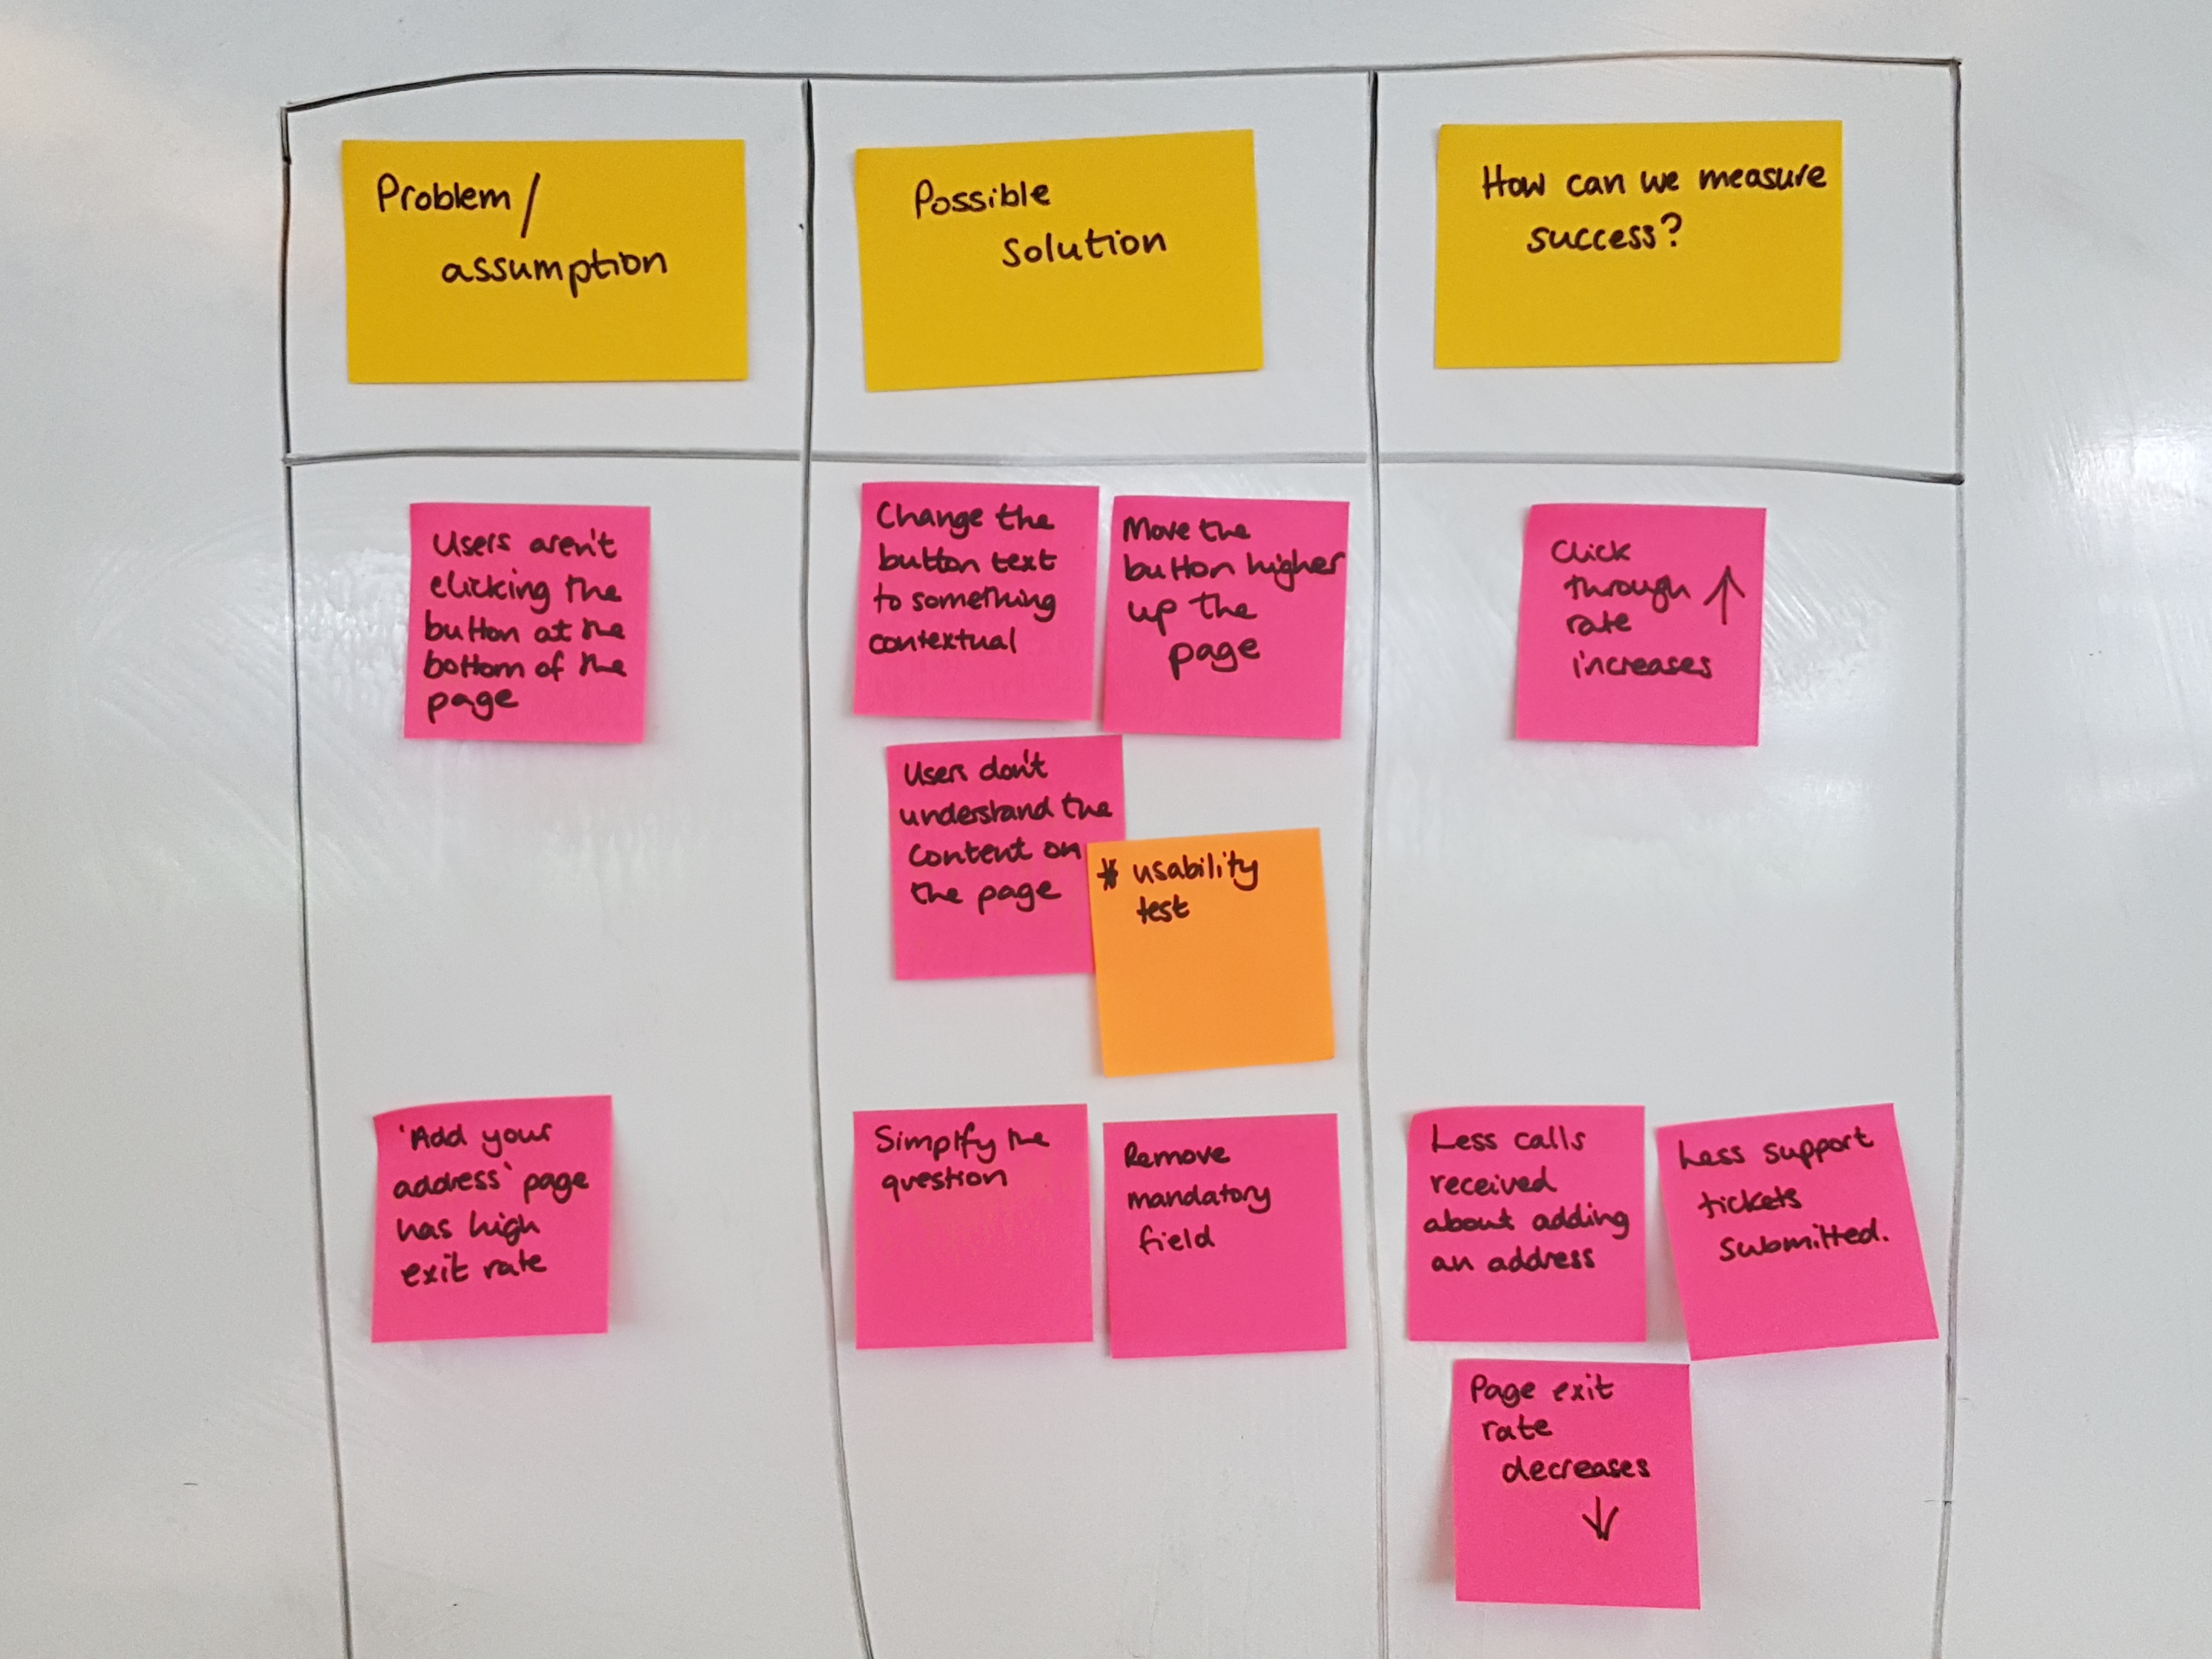stickynote: (849, 124, 1266, 395), (339, 134, 757, 389), (1429, 120, 1848, 369), (1658, 1103, 1938, 1359), (1451, 1355, 1700, 1615), (365, 1093, 614, 1344), (1508, 502, 1763, 749), (886, 734, 1137, 982), (853, 480, 1101, 730), (1088, 830, 1336, 1080), (1101, 495, 1349, 740), (406, 499, 655, 743), (1101, 1112, 1349, 1353), (853, 1103, 1093, 1349), (1406, 1105, 1654, 1343)
